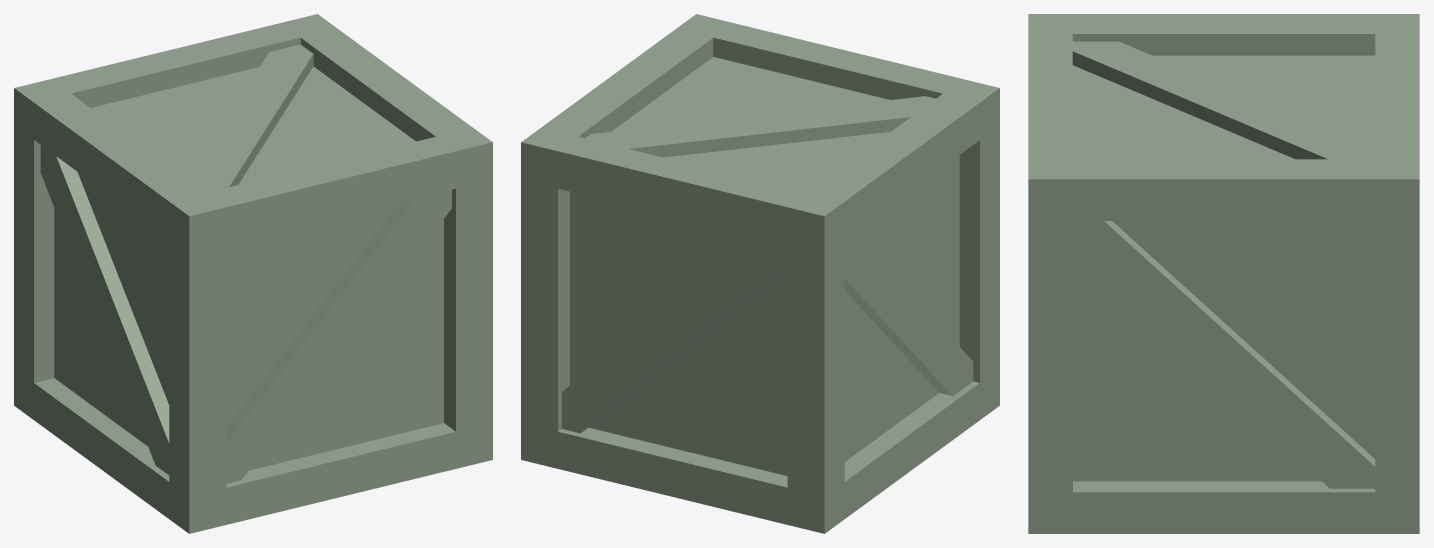
Rendered from crate_02.fbx.
3 views of the same model, side by side, from view 1: azimuth 30°, elevation 25°; view 2: azimuth 150°, elevation 25°; view 3: azimuth 270°, elevation 25° (orthographic). The views are drawn at different scales.
Visible parts, largest first — view 1: crate_02; view 2: crate_02; view 3: crate_02.
Boxes of the visible parts, box(x1,y1,x2,y2) form: crate_02: box(14, 14, 492, 533); crate_02: box(521, 14, 999, 533); crate_02: box(1028, 14, 1419, 533).
Size of the model in its own units: 1.55 by 1.55 by 1.55.
